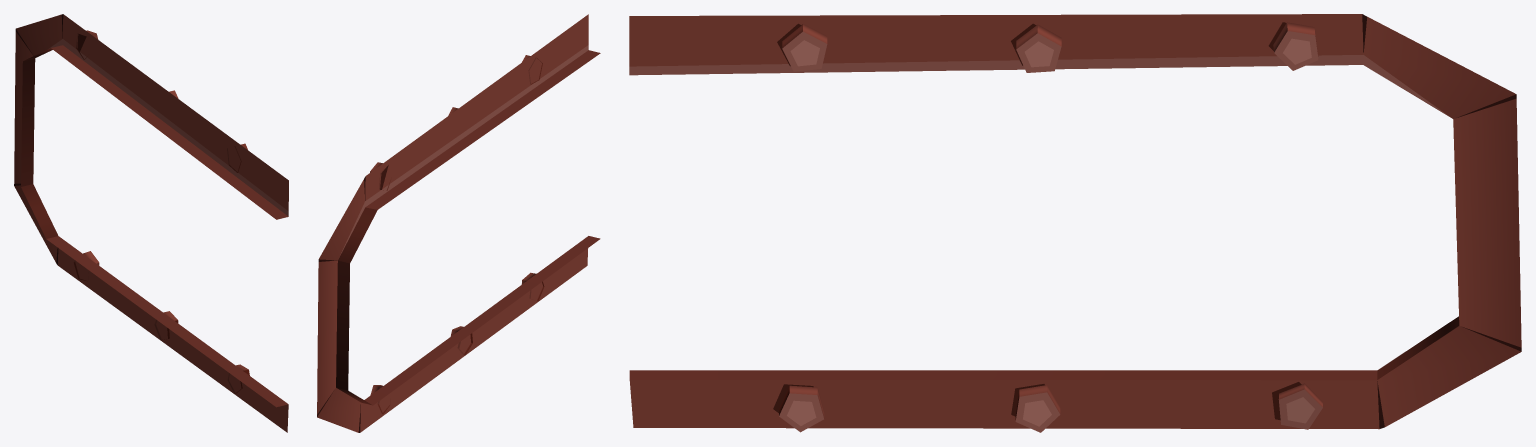
Rendered from BeamWallFront.fbx.
3 views of the same model, side by side, from view 1: azimuth 30°, elevation 25°; view 2: azimuth 150°, elevation 25°; view 3: azimuth 270°, elevation 25° (orthographic). The views are drawn at different scales.
Visible parts, largest first — view 1: BeamWallFront; view 2: BeamWallFront; view 3: BeamWallFront.
Boxes of the visible parts, left/top/right/bottom form: BeamWallFront: left=14, top=14, right=288, bottom=432; BeamWallFront: left=317, top=14, right=600, bottom=432; BeamWallFront: left=629, top=14, right=1521, bottom=432.
Bounding box in the file's own units: 12.32 × 124 × 242.
